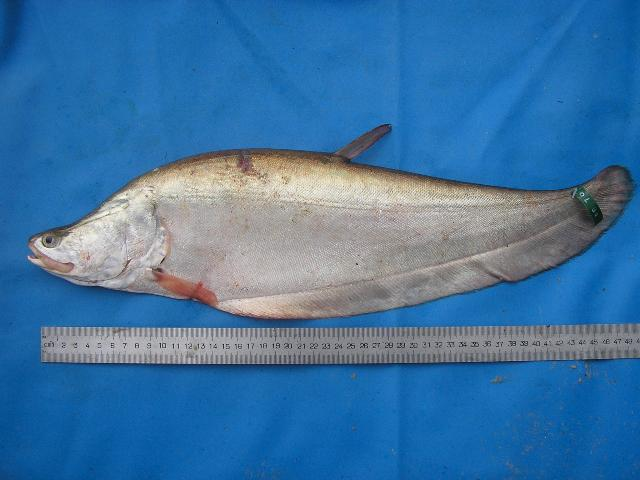Mulut: (22, 228, 68, 284)
Sirip Dada: (142, 260, 226, 314)
Sirip Punggung: (329, 118, 401, 170)
